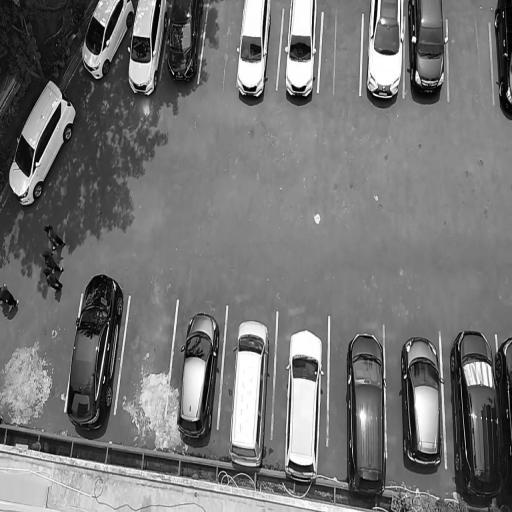Car: (449, 323, 509, 512), (65, 267, 125, 427), (6, 80, 78, 212), (343, 333, 391, 502), (282, 320, 324, 483), (175, 297, 222, 441), (227, 314, 271, 466), (401, 331, 444, 478), (364, 0, 404, 110), (80, 0, 132, 81), (284, 0, 320, 112), (407, 0, 445, 104), (125, 0, 166, 95), (237, 0, 273, 105), (162, 0, 202, 86), (495, 0, 512, 114)
Space Available: (128, 290, 167, 430), (451, 0, 489, 99), (325, 4, 360, 101), (208, 0, 238, 87)
